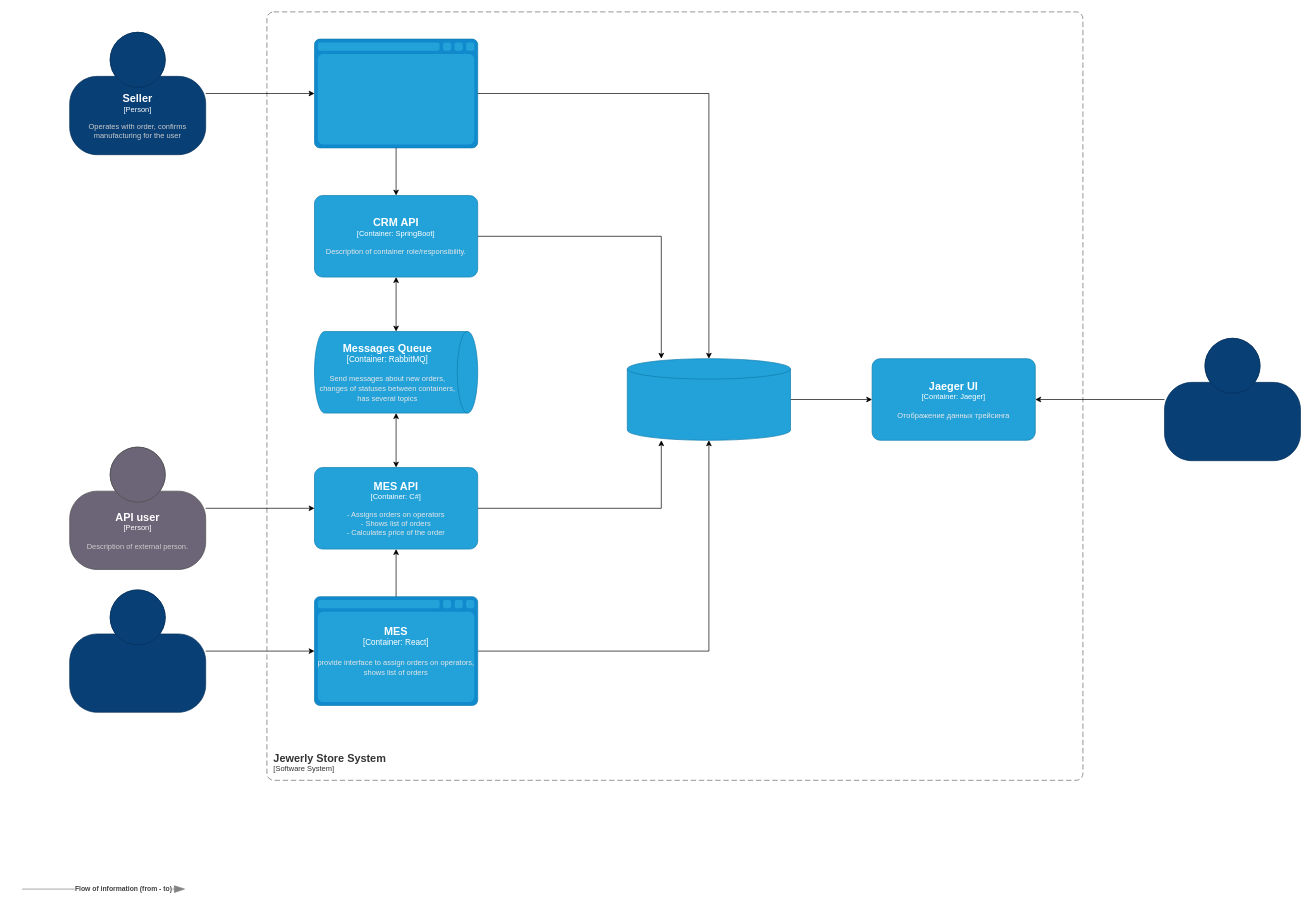
Some shapes in this 1312 by 912 pixel diagram are drawn without their labels. The centre of each missing label's shape, as x and y in pixels:
"CRM [Container: Vue] Description of web browser container role/responsibility." belongs at [396,93].
"Jaeger [Container: OpenTelemetry] Хранилище данных трейсинга" belongs at [708,399].
"Operator [Person] Takes order in work, manufactures jewerly" belongs at [137,650].
"Администратор [User] Takes order in work, manufactures jewerly" belongs at [1232,399].
